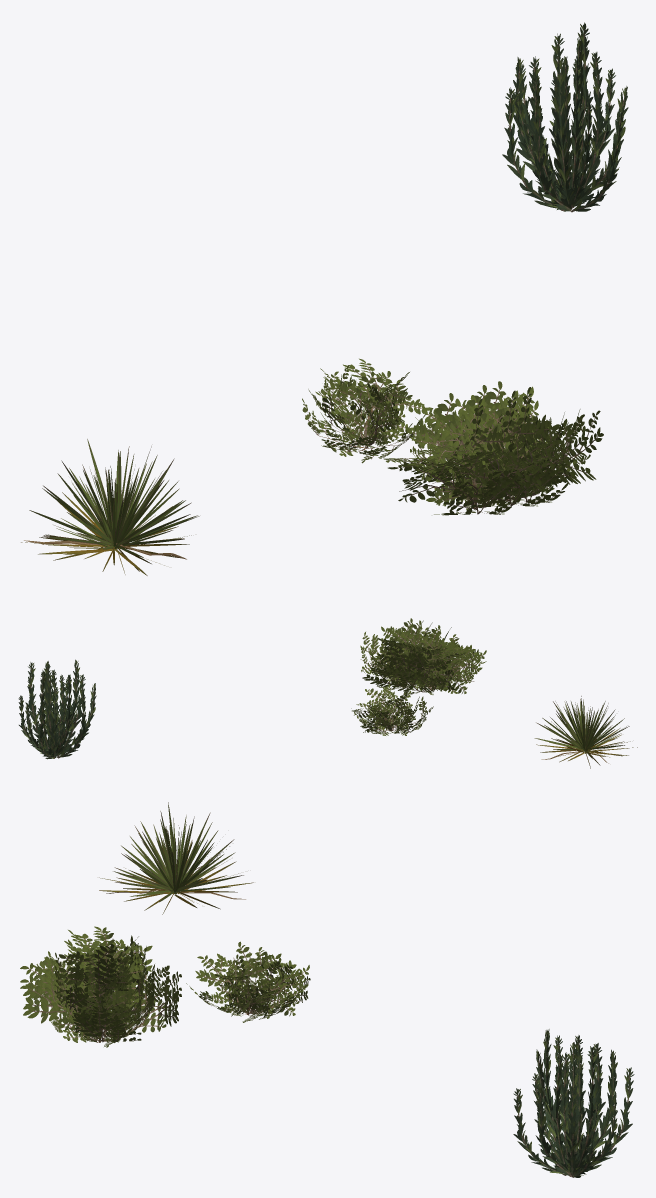
File: THE BUSH.fbx
3 views of the same model, one above another, from view 1: azimuth 30°, elevation 25°; view 2: azimuth 150°, elevation 25°; view 3: azimuth 270°, elevation 25° (orthographic). The views are drawn at different scales.
Parts seen in each view (by area): view 1: Bush_var4_LOD0_Desert_foliage_1, Bush_var7_LOD0_Desert_foliage_0, Bush_varN_LOD0_Desert_foliage_0, Bush_var5_LOD0_Desert_foliage_0; view 2: Bush_var4_LOD0_Desert_foliage_1, Bush_var7_LOD0_Desert_foliage_0, Bush_varN_LOD0_Desert_foliage_0, Bush_var5_LOD0_Desert_foliage_0; view 3: Bush_var4_LOD0_Desert_foliage_1, Bush_var7_LOD0_Desert_foliage_0, Bush_var5_LOD0_Desert_foliage_0, Bush_varN_LOD0_Desert_foliage_0.
Boxes of the visible parts, bbox=[...] form: Bush_var4_LOD0_Desert_foliage_1: bbox=[383, 381, 603, 515]; Bush_var7_LOD0_Desert_foliage_0: bbox=[502, 22, 628, 212]; Bush_varN_LOD0_Desert_foliage_0: bbox=[21, 439, 199, 575]; Bush_var5_LOD0_Desert_foliage_0: bbox=[302, 358, 431, 463]; Bush_var4_LOD0_Desert_foliage_1: bbox=[360, 618, 486, 694]; Bush_var7_LOD0_Desert_foliage_0: bbox=[18, 659, 96, 759]; Bush_varN_LOD0_Desert_foliage_0: bbox=[534, 696, 637, 768]; Bush_var5_LOD0_Desert_foliage_0: bbox=[351, 682, 433, 735]; Bush_var4_LOD0_Desert_foliage_1: bbox=[20, 926, 181, 1047]; Bush_var7_LOD0_Desert_foliage_0: bbox=[513, 1029, 634, 1177]; Bush_var5_LOD0_Desert_foliage_0: bbox=[186, 941, 310, 1022]; Bush_varN_LOD0_Desert_foliage_0: bbox=[99, 802, 253, 914].
Bounding box in the file's own units: 0.4412 × 0.0902 × 0.3456.
1 material, 1 textured.
